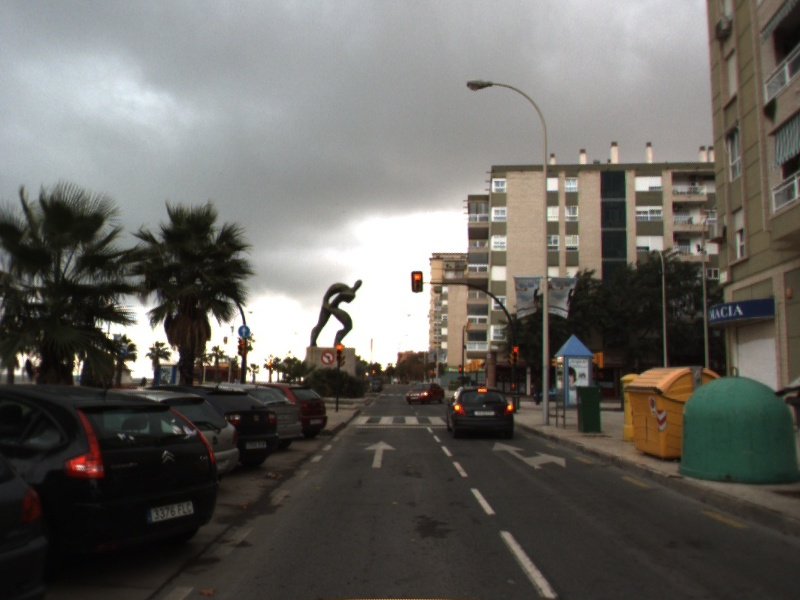STRAIGHT: (362, 439, 398, 469)
STRAIGHT_RIGHT: (490, 440, 567, 471)
